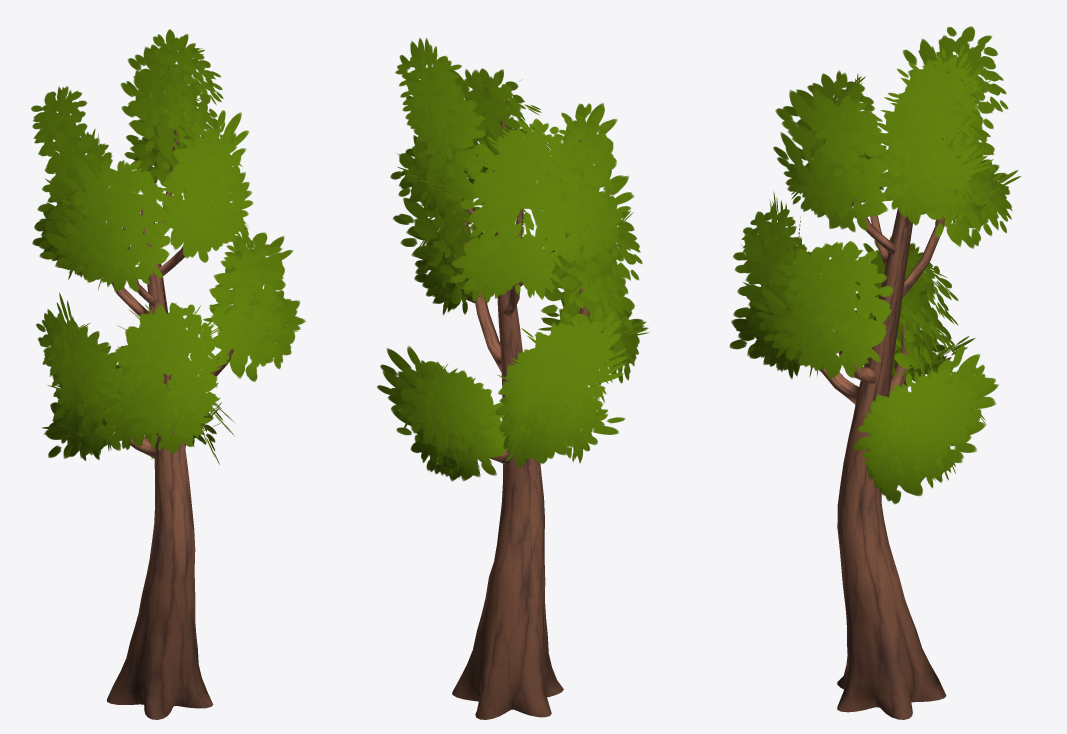
File: fruit-tree-cherry.glb
3 views of the same model, side by side, from view 1: azimuth 30°, elevation 25°; view 2: azimuth 150°, elevation 25°; view 3: azimuth 270°, elevation 25° (orthographic). The views are drawn at different scales.
Parts seen in each view (by area): view 1: CommonTree_3; view 2: CommonTree_3; view 3: CommonTree_3.
Boxes of the visible parts, x1,y1,x2,y2 form: CommonTree_3: (31, 29, 305, 719); CommonTree_3: (377, 38, 649, 719); CommonTree_3: (729, 26, 1021, 719).
Size of the model in its own units: 4.06 by 9.43 by 4.24.
2 materials, 2 textured.
